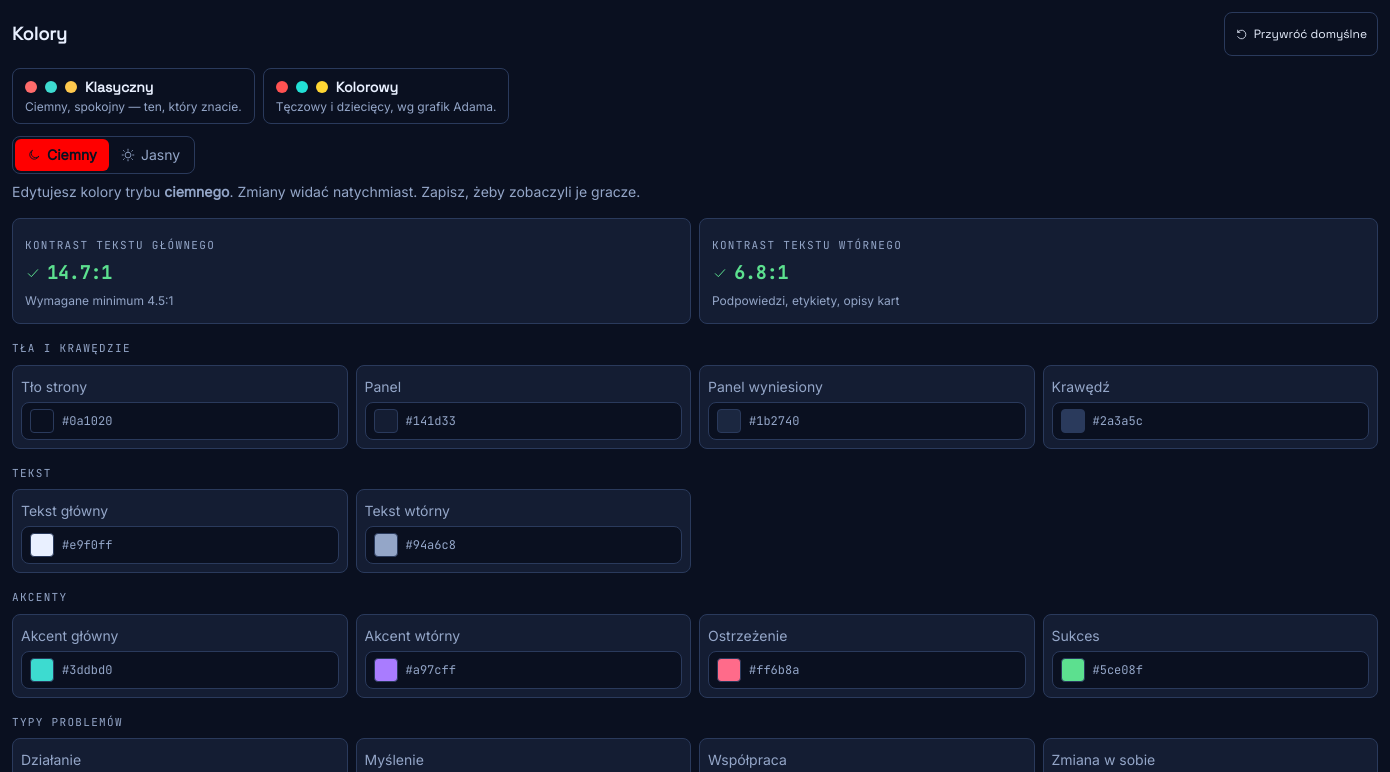
ThemeEditor › nie kłamie o podglądzie, gdy edytujesz tryb inny niż widoczny
Expected: the text "Zmiany widać natychmiast" is shown, [238,183,417,200]
// Przełącz na edycję jasnego, gdy strona jest ciemna.
Click the tab "Jasny".
click(151, 155)  # box [109,139,192,171]
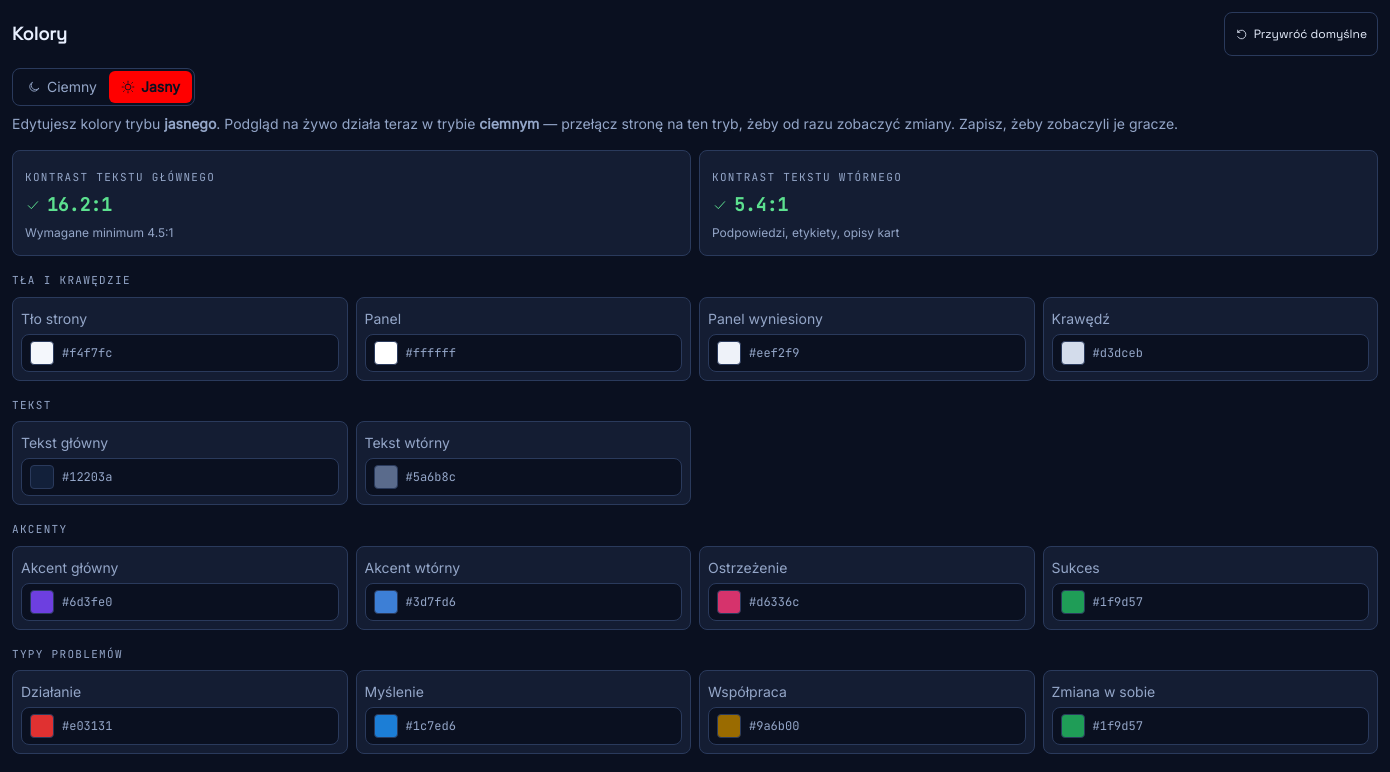
Expected: the text "Zmiany widać natychmiast" is gone
Expected: the text "Podgląd na żywo działa teraz w trybie" is shown, [224,115,475,132]
